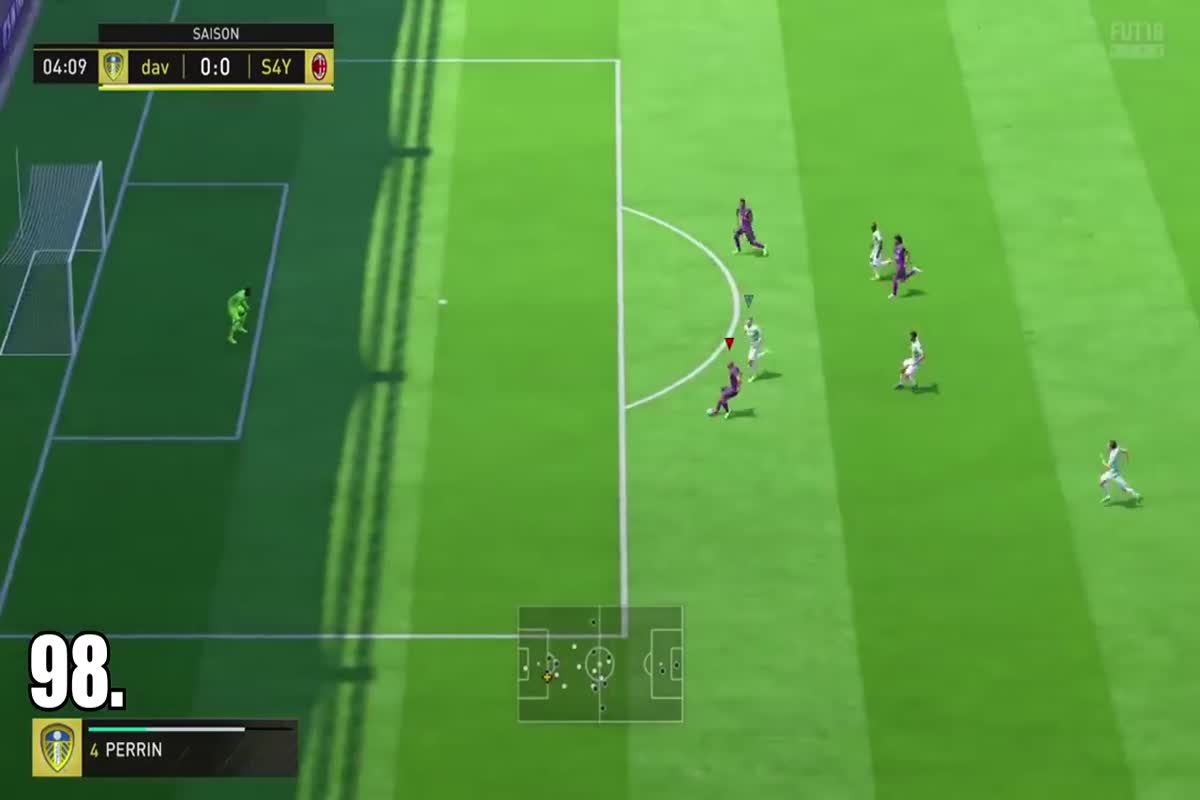ball: (694, 399, 717, 417)
